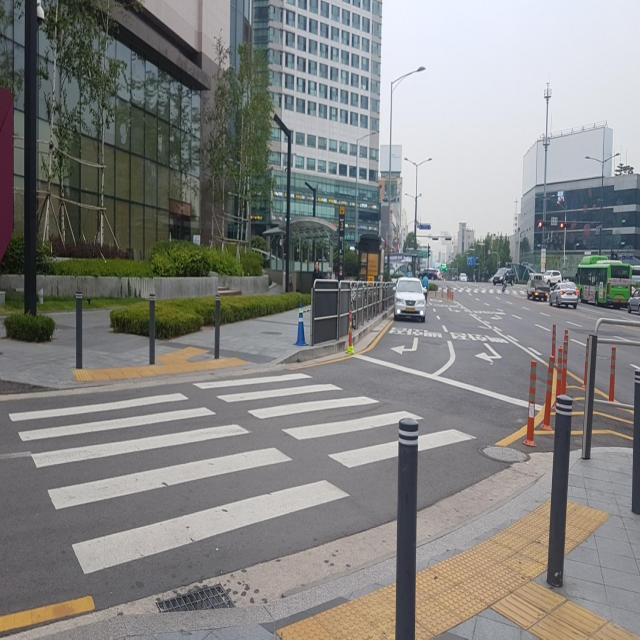횡단보도: (6, 367, 479, 578), (438, 285, 535, 297)
